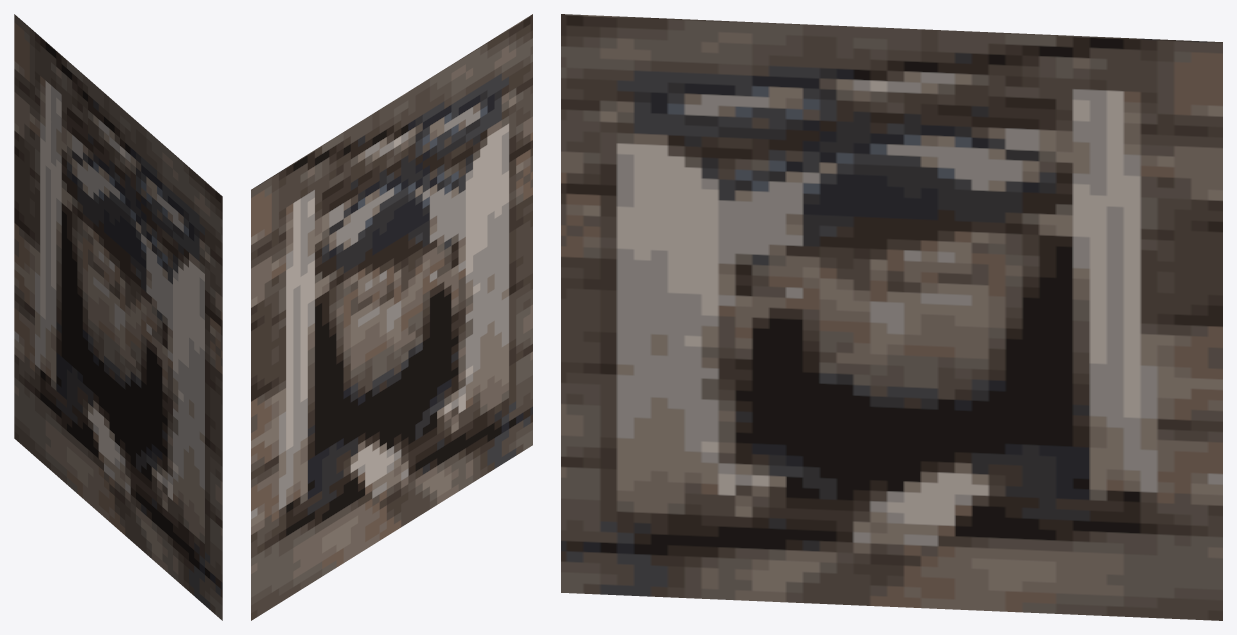
The model's file is DedNeZval.fbx.
The picture shows the model from 3 angles, left to right: view 1: azimuth 30°, elevation 25°; view 2: azimuth 150°, elevation 25°; view 3: azimuth 270°, elevation 25°; orthographic projection. The views are drawn at different scales.
Visible parts, largest first — view 1: DedNeZval; view 2: DedNeZval; view 3: DedNeZval.
Boxes of the visible parts, x1,y1,x2,y2 form: DedNeZval: [14, 14, 222, 620]; DedNeZval: [251, 14, 532, 620]; DedNeZval: [561, 14, 1222, 620].
Size of the model in its own units: 14.51 by 171 by 176.
